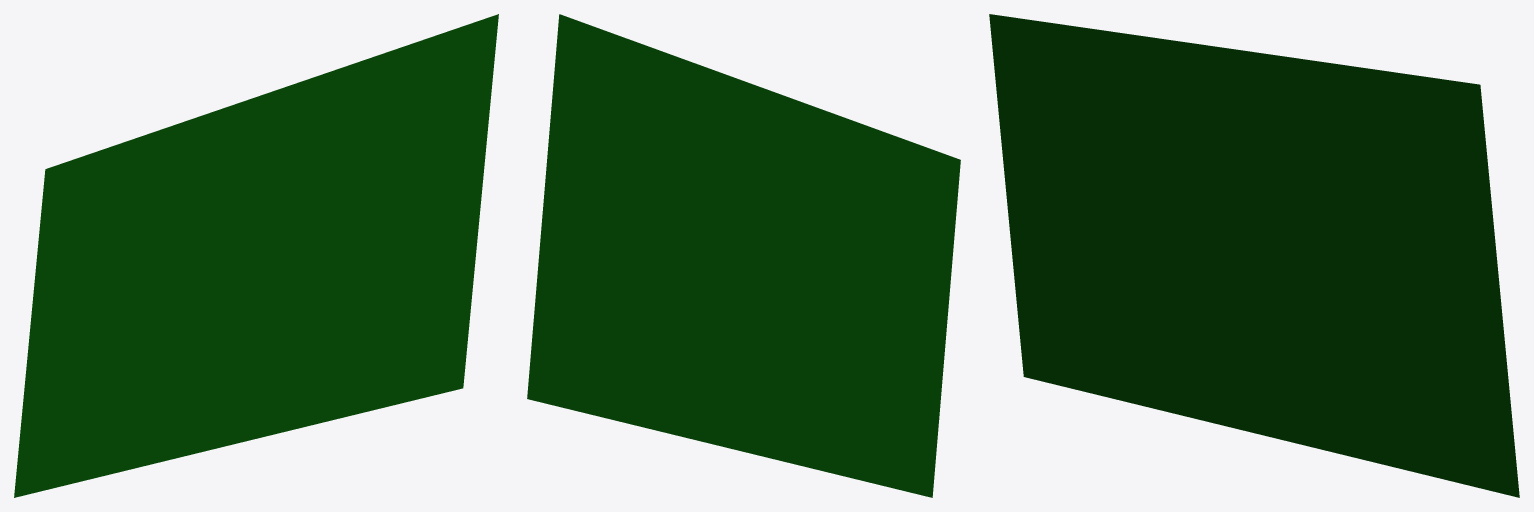
File: zatana_terra_base_vis_74.dae
The picture shows the model from 3 angles, left to right: view 1: azimuth 30°, elevation 25°; view 2: azimuth 150°, elevation 25°; view 3: azimuth 330°, elevation 25°; orthographic projection. The views are drawn at different scales.
Parts seen in each view (by area): view 1: Node_000002318374BEC0; view 2: Node_000002318374BEC0; view 3: Node_000002318374BEC0.
Part boxes in pixels (x1,y1,x2,y2): Node_000002318374BEC0: [14, 14, 498, 497]; Node_000002318374BEC0: [527, 14, 960, 497]; Node_000002318374BEC0: [989, 14, 1519, 497].
Bounding box in the file's own units: 0.00618 × 0.00527 × 0.00085.
